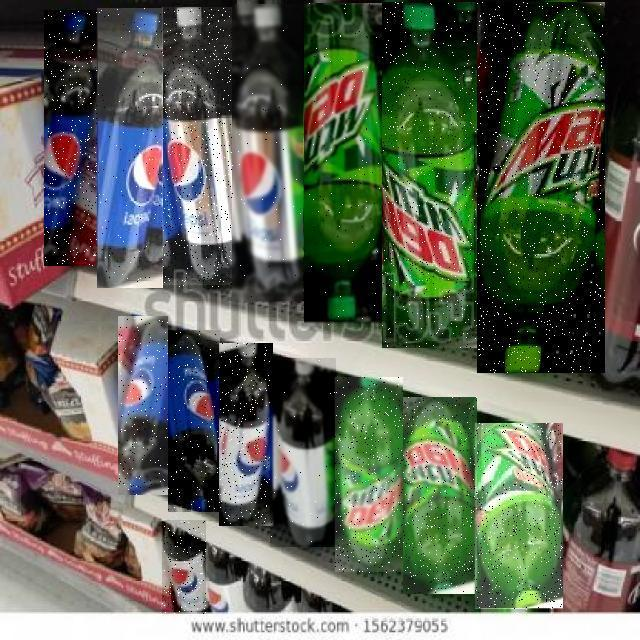Drinks: (477, 2, 605, 373), (382, 3, 478, 349), (304, 4, 382, 326), (232, 4, 303, 301), (162, 8, 233, 288), (97, 9, 163, 289), (475, 424, 563, 612), (403, 397, 477, 594), (45, 11, 99, 267), (335, 378, 403, 574), (270, 358, 336, 547), (219, 343, 273, 526), (168, 330, 220, 512), (118, 316, 168, 495), (162, 520, 206, 614)
